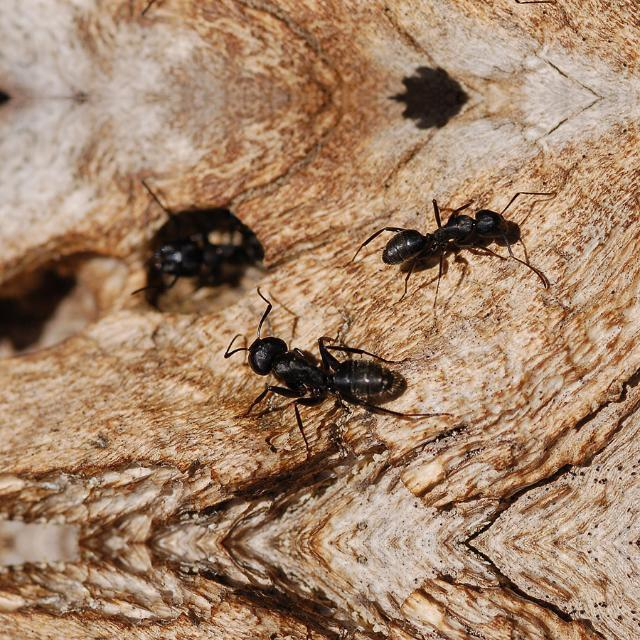Camponotus: (228, 309, 428, 437), (374, 172, 538, 286), (144, 222, 266, 298)
